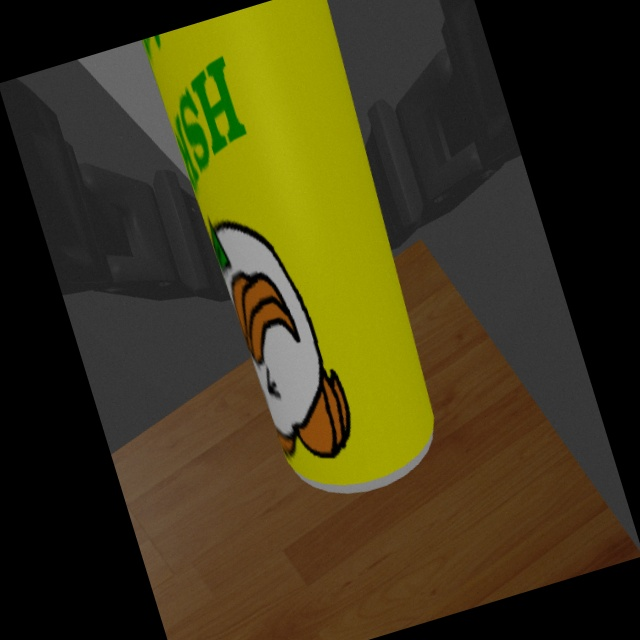chipsdose_gelb: (143, 1, 433, 494)
